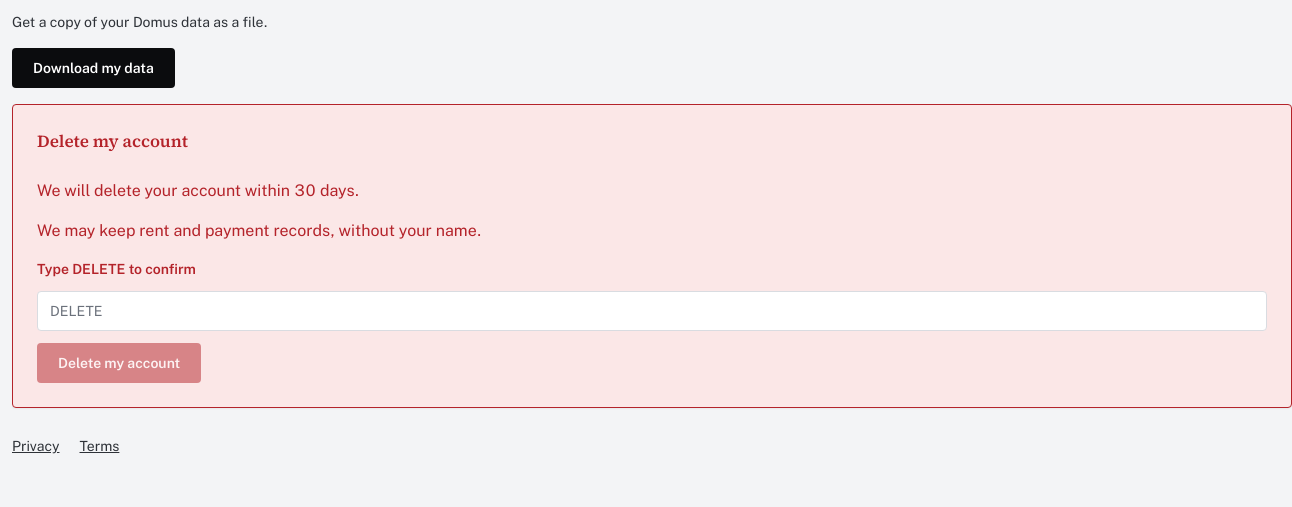
Test: Your data settings › shows a failed download response
This screenshot has width=1292, height=507.
Click the button "Download my data". click: [93, 68]
box: [12,48,175,88]
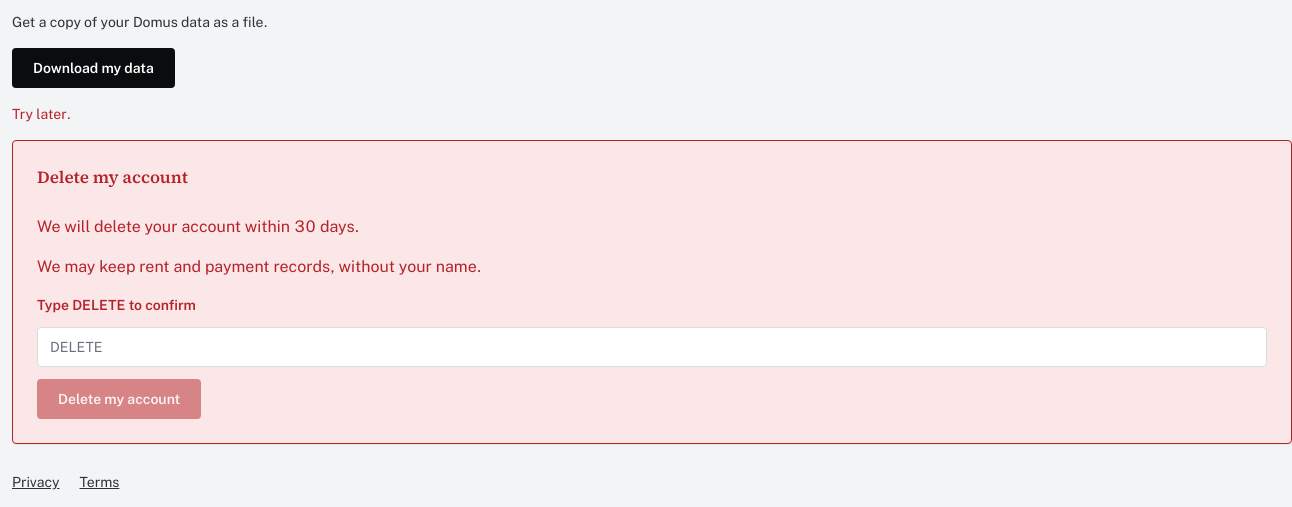
Now the message reads "Try later.", box [12,106,71,122]
